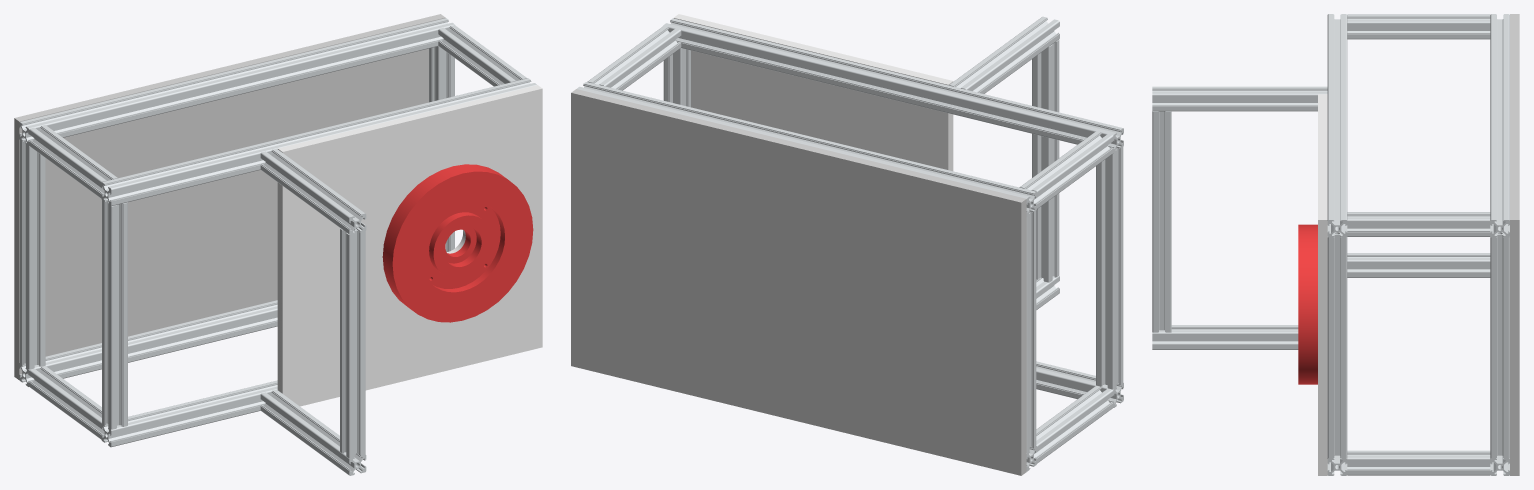
File: thanxe.obj
3 views of the same model, side by side, from view 1: azimuth 30°, elevation 25°; view 2: azimuth 150°, elevation 25°; view 3: azimuth 270°, elevation 25° (orthographic). The views are drawn at different scales.
Parts seen in each view (by area): view 1: san2, tren2, dem tren, ndh500, ndh500_2, ndh290_1, ndh290_4, ndh290_2, ndh500_3, ndh500_1, ndh180, ndh180_1 (+4 smaller); view 2: san2, tren2, ndh500_2, ndh290_2, ndh500, ndh290_4, ndh180, ndh187_2, ndh290_1, ndh187_3, ndh187, ndh500_1 (+1 smaller); view 3: ndh290, ndh500_2, san2, ndh290_3, ndh290_4, ndh500, ndh180, tren2, ndh187_1, ndh187_2, ndh187, ndh187_3 (+2 smaller).
Part boxes in pixels (box(x1,y1,x2,y2)): san2: box(14, 14, 445, 379); tren2: box(277, 85, 542, 406); dem tren: box(382, 164, 533, 322); ndh500: box(19, 18, 454, 146); ndh500_2: box(101, 78, 536, 206); ndh290_1: box(19, 140, 45, 369); ndh290_4: box(340, 228, 365, 458); ndh290_2: box(102, 200, 127, 429); ndh500_3: box(19, 300, 277, 386); ndh500_1: box(101, 380, 277, 447); ndh180: box(260, 148, 366, 234); ndh180_1: box(260, 389, 366, 475); san2: box(571, 89, 1026, 475); tren2: box(674, 14, 953, 171); ndh500_2: box(663, 18, 1123, 153); ndh290_2: box(1096, 147, 1123, 389); ndh500: box(577, 82, 1036, 216); ndh290_4: box(1032, 39, 1059, 282); ndh180: box(949, 16, 1059, 93); ndh187_2: box(1019, 131, 1113, 208); ndh290_1: box(1026, 211, 1036, 452); ndh187_3: box(1034, 385, 1113, 463); ndh187: box(587, 25, 681, 90); ndh500_1: box(1036, 361, 1123, 407); ndh290: box(1327, 232, 1347, 458); ndh500_2: box(1327, 14, 1347, 237); san2: box(1510, 14, 1519, 475); ndh290_3: box(1490, 232, 1509, 458); ndh290_4: box(1152, 111, 1171, 332); ndh500: box(1490, 14, 1509, 237); ndh180: box(1152, 86, 1327, 111); tren2: box(1318, 94, 1327, 475); ndh187_1: box(1347, 450, 1490, 475); ndh187_2: box(1347, 14, 1490, 39); ndh187: box(1347, 212, 1490, 236); ndh187_3: box(1347, 253, 1490, 277).
Bounding box in the file's own units: 500 × 290 × 377.
